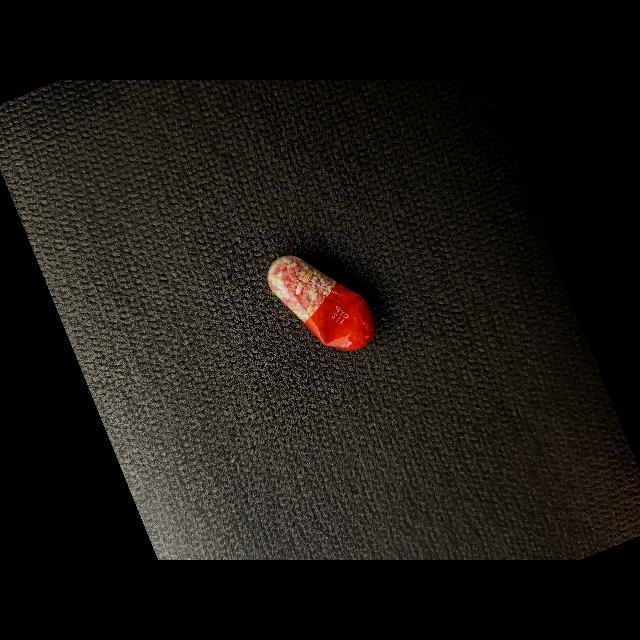Defective Capsule: (267, 255, 375, 351)
